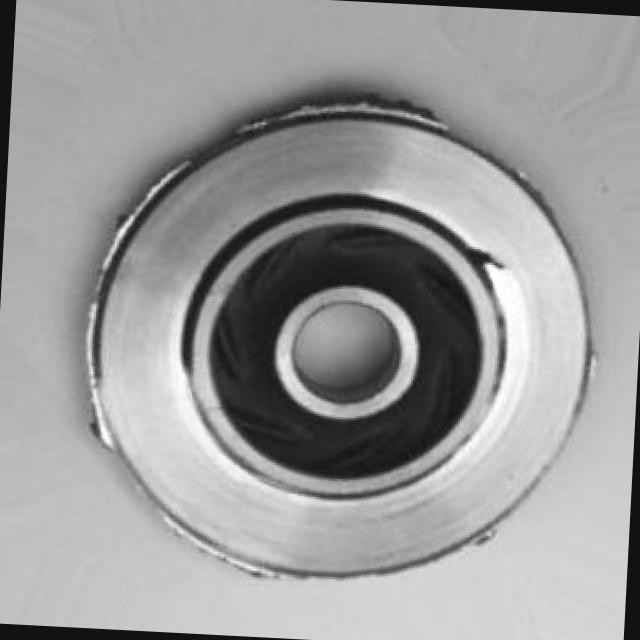Defect: (460, 232, 506, 282)
